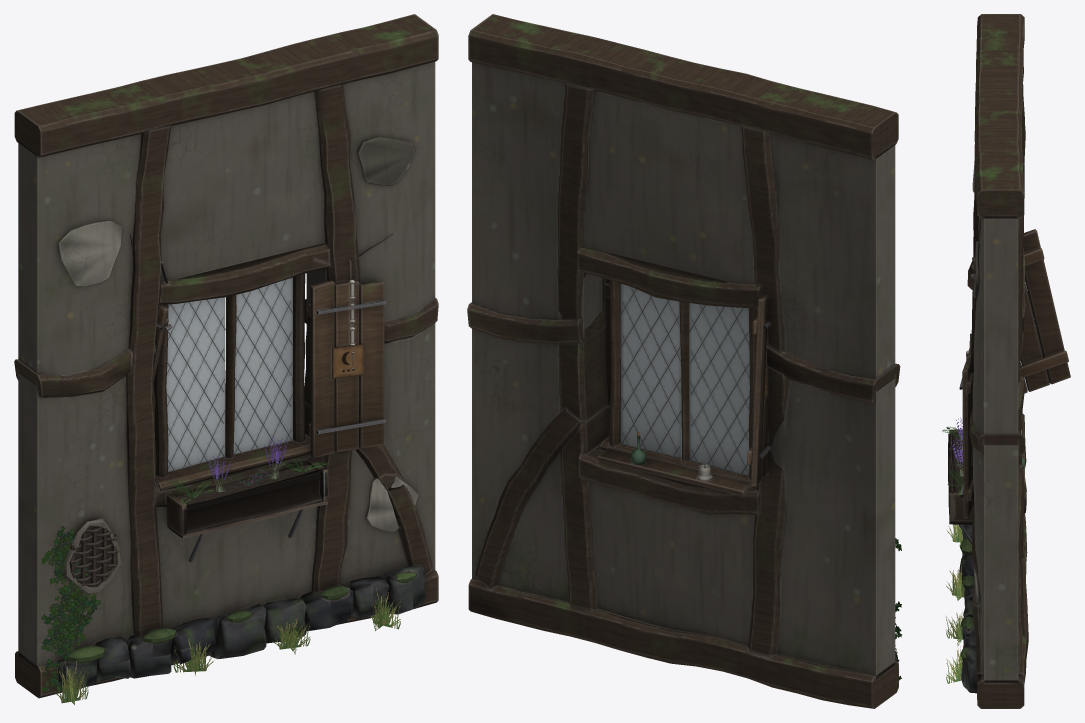
The model's file is HutWallWindow.fbx.
The picture shows the model from 3 angles, left to right: view 1: azimuth 30°, elevation 25°; view 2: azimuth 150°, elevation 25°; view 3: azimuth 270°, elevation 25°; orthographic projection. The views are drawn at different scales.
Parts seen in each view (by area): view 1: HutWallWindow_Main, HutWallWindow_Glass, HutWallWindow_Leaves; view 2: HutWallWindow_Main, HutWallWindow_Glass; view 3: HutWallWindow_Main, HutWallWindow_Leaves.
Part boxes in pixels (x1=…): HutWallWindow_Main: x1=14, y1=14, x2=438, y2=698; HutWallWindow_Glass: x1=166, y1=277, x2=292, y2=471; HutWallWindow_Leaves: x1=41, y1=435, x2=400, y2=705; HutWallWindow_Main: x1=467, y1=14, x2=900, y2=708; HutWallWindow_Glass: x1=620, y1=283, x2=749, y2=475; HutWallWindow_Main: x1=948, y1=14, x2=1070, y2=708; HutWallWindow_Leaves: x1=942, y1=417, x2=964, y2=683.
Bounding box in the file's own units: 812 × 1106 × 263.
